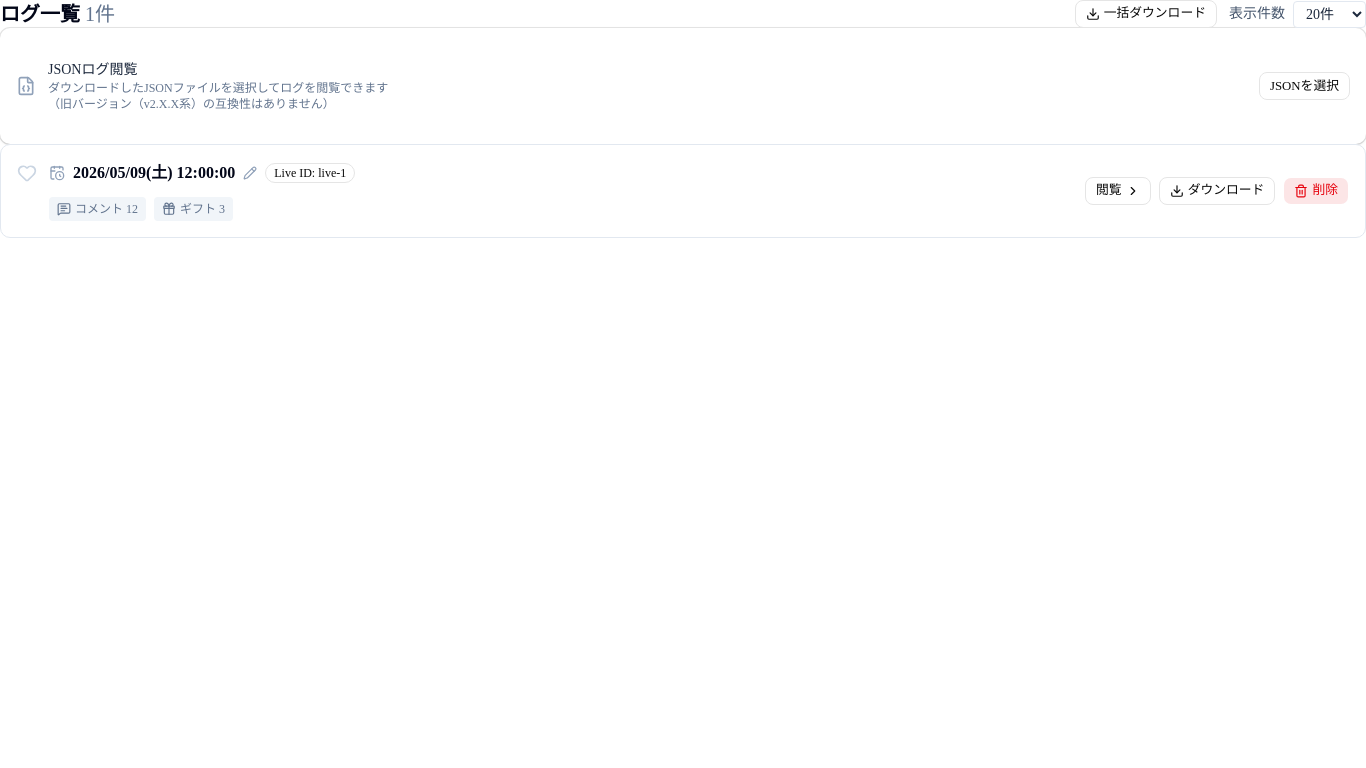
Scenario: LogListPage › confirms and deletes a log
The width and height of the screenshot is (1366, 768).
Click the button "削除" at (1316,191), box x1=1283 y1=177 x2=1349 y2=205
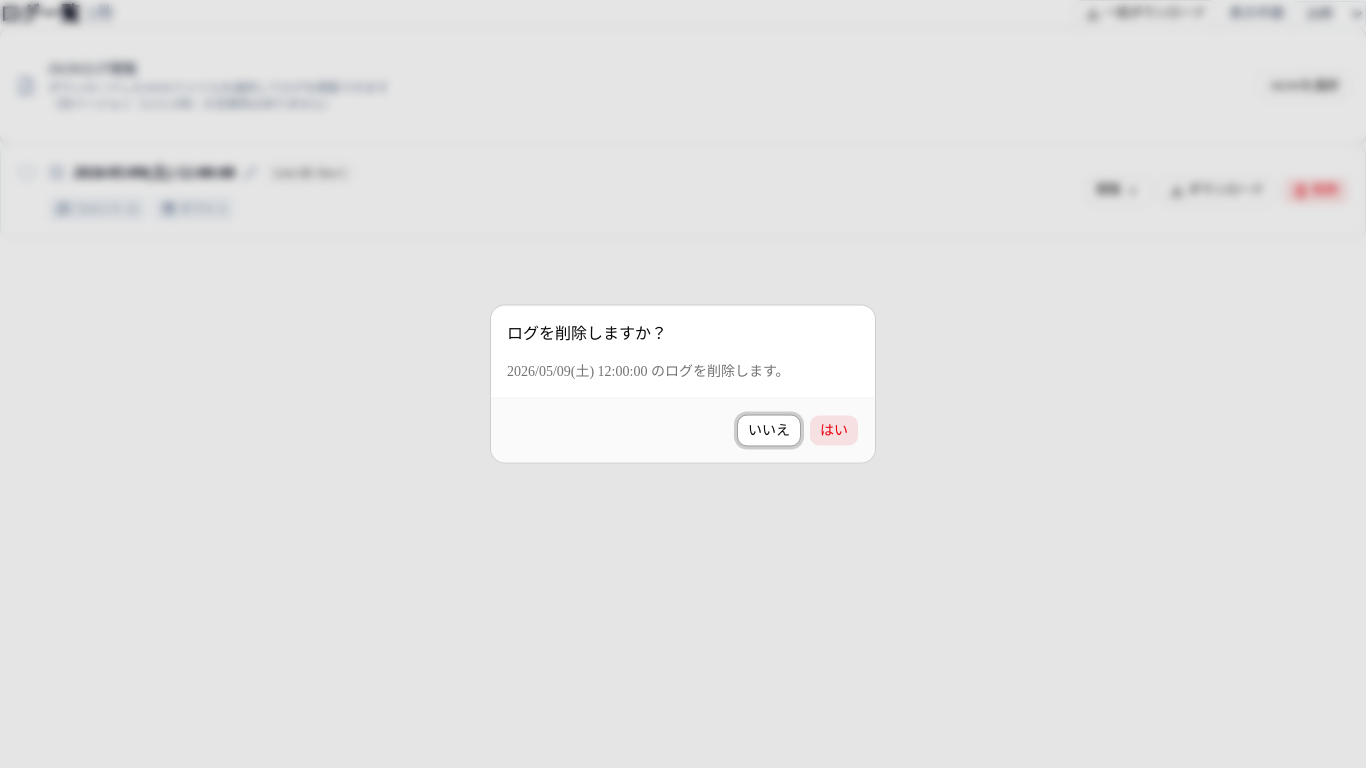
Expected: the heading "ログを削除しますか？" is shown, x1=507 y1=324 x2=667 y2=342
Click the button "はい" at (834,430), box x1=809 y1=414 x2=859 y2=446
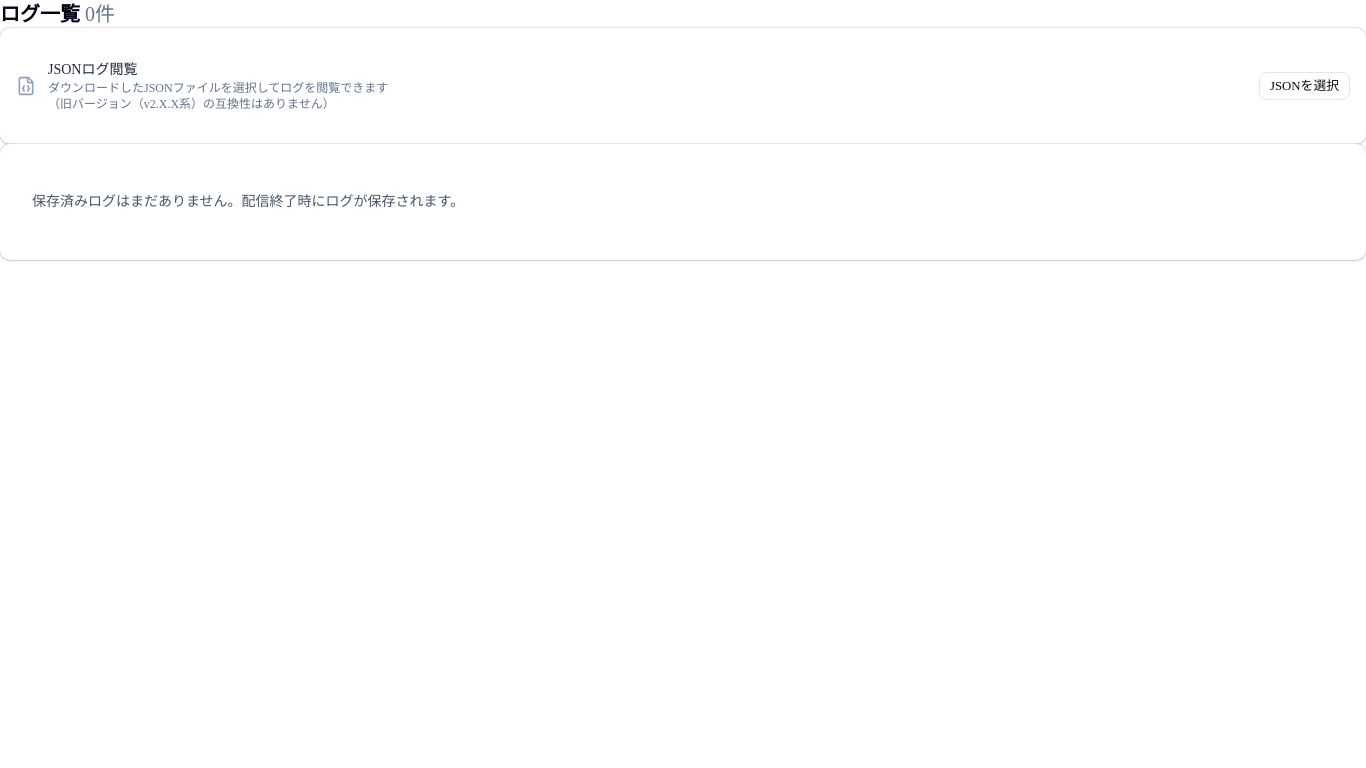
Expected: the text "2026/05/09(土) 12:00:00" is gone
Expected: the text "保存済みログはまだありません。配信終了時にログが保存されます。" is shown, x1=32 y1=194 x2=464 y2=209
